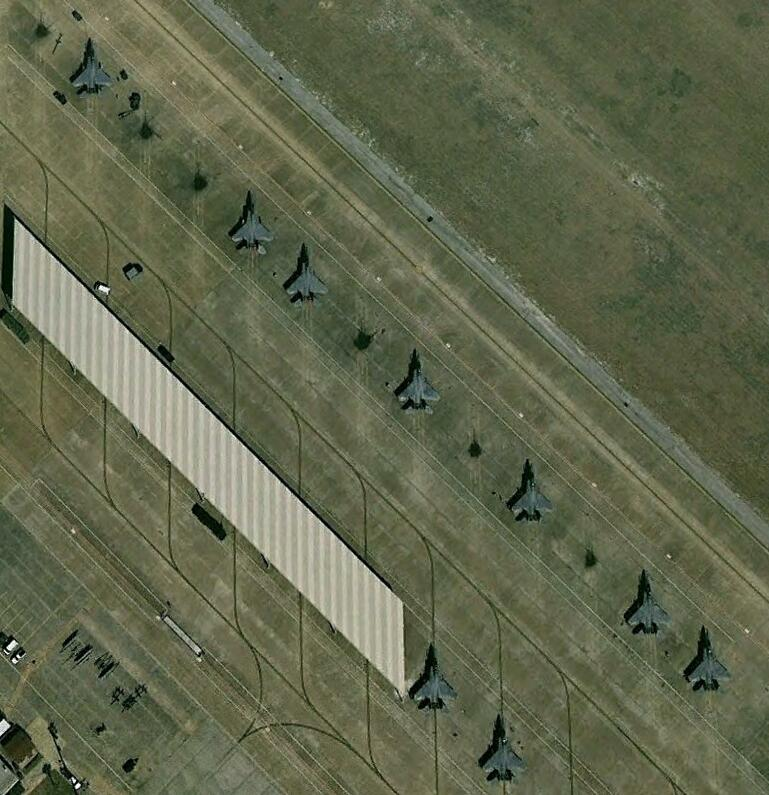A13: (390, 348, 442, 415), (478, 714, 528, 783), (684, 623, 731, 694), (625, 569, 672, 639), (413, 646, 459, 717), (229, 189, 276, 256), (508, 457, 555, 524), (283, 245, 329, 307), (71, 38, 116, 97)
